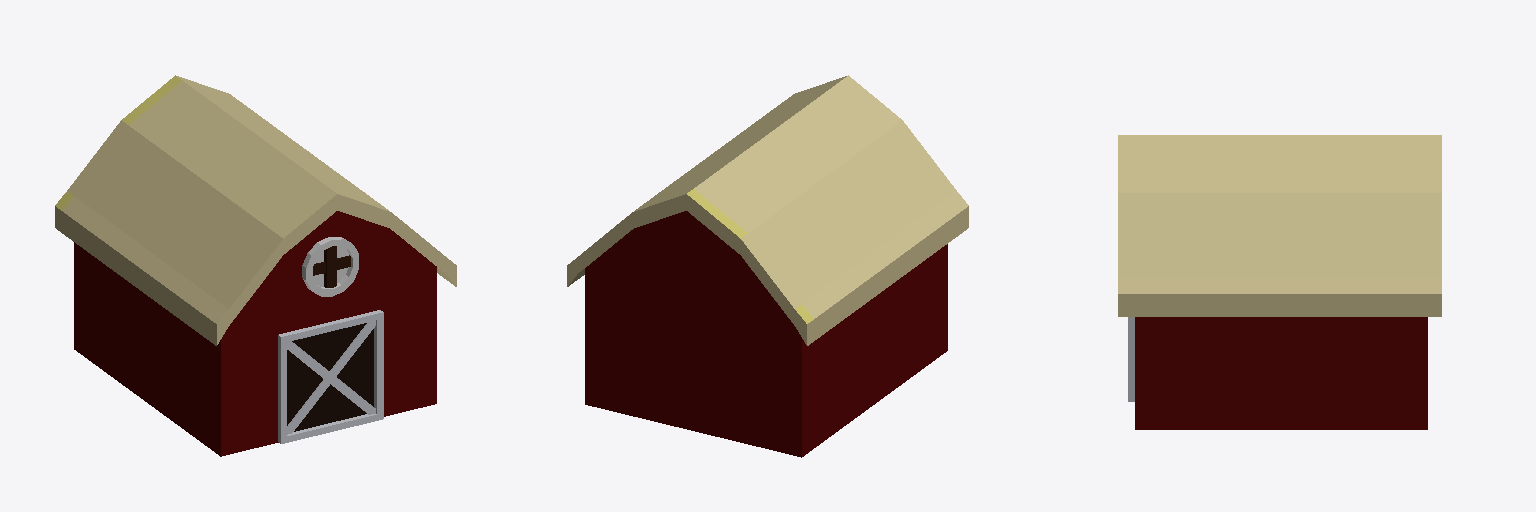
The model's file is ban.obj.
The picture shows the model from 3 angles: view 1: azimuth 30°, elevation 25°; view 2: azimuth 150°, elevation 25°; view 3: azimuth 270°, elevation 25°; orthographic projection.
Visible parts, largest first — view 1: Cube.001, Cube.003, Cylinder, Cube.002; view 2: Cube.001; view 3: Cube.001, Cube.003.
Boxes of the visible parts, x1=… form: Cube.001: x1=55, y1=75, x2=456, y2=456; Cube.003: x1=278, y1=310, x2=383, y2=443; Cylinder: x1=302, y1=237, x2=358, y2=296; Cube.002: x1=313, y1=246, x2=350, y2=287; Cube.001: x1=567, y1=75, x2=968, y2=457; Cube.001: x1=1118, y1=135, x2=1441, y2=429; Cube.003: x1=1128, y1=317, x2=1134, y2=401.
Size of the model in its own units: 4.7 by 4.53 by 5.48.